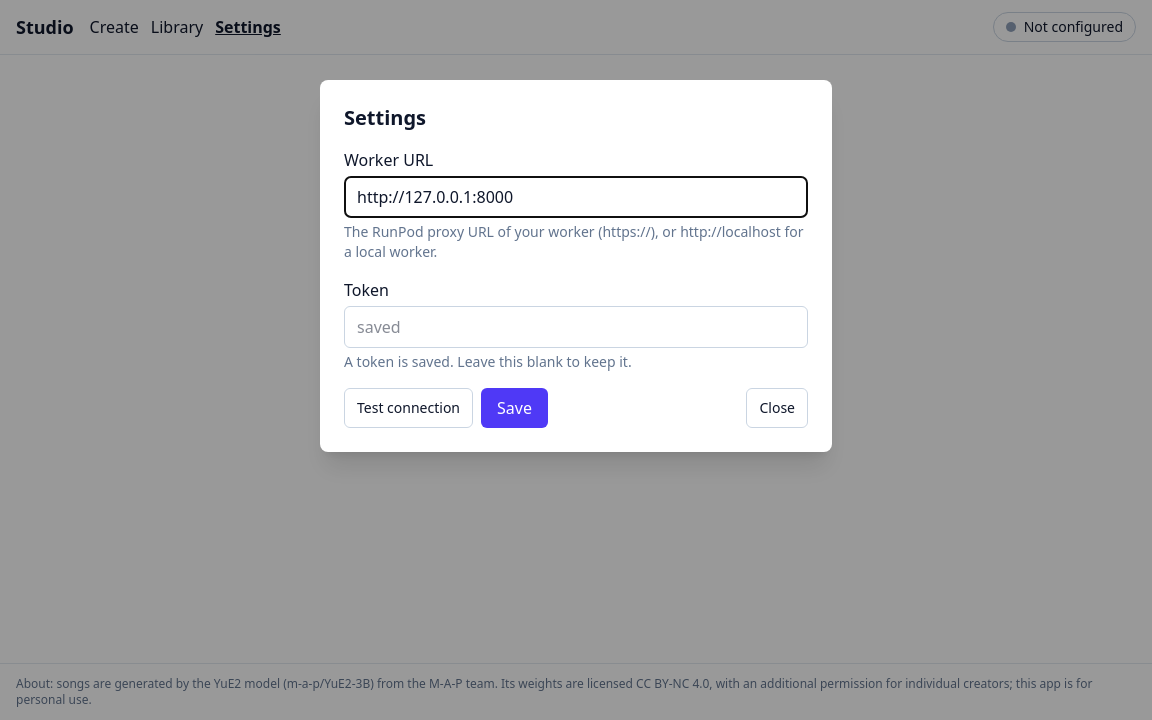
settings dialog (U-5) › Test connection reports ready
expect the field labelled "Worker URL" holds "http://127.0.0.1:8000": met, box [344,176,808,218]
Click the button "Test connection". click: (408, 408)
box: [344,388,473,428]
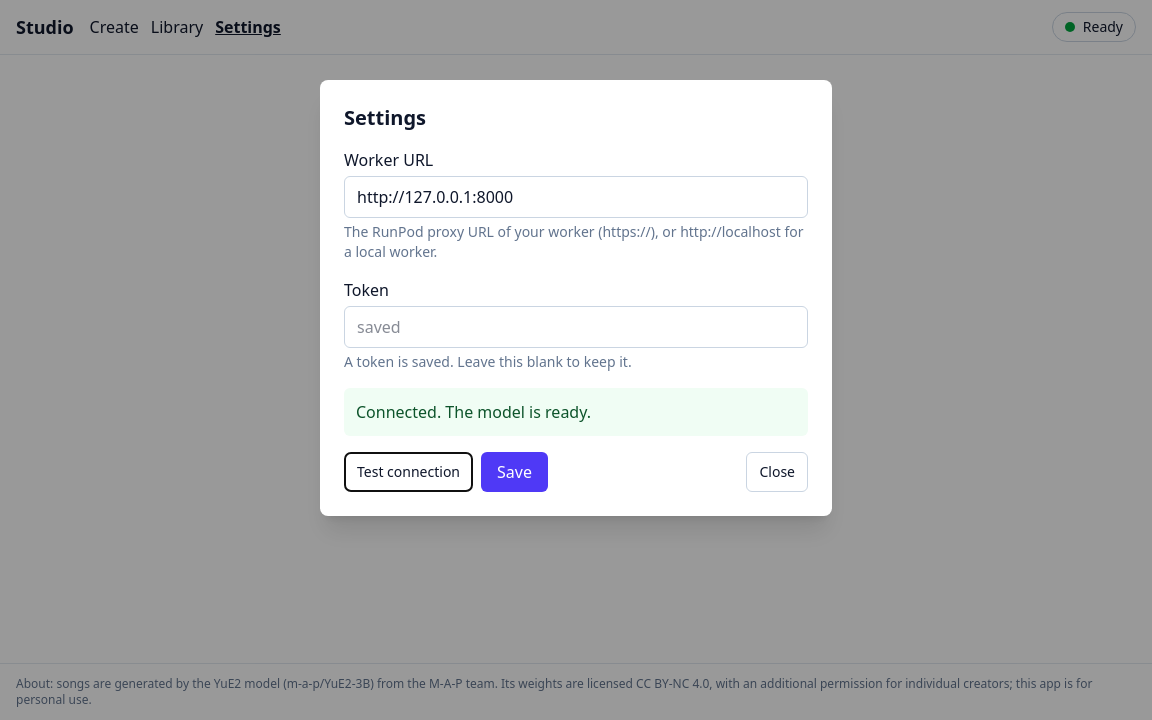
expect the text "Connected. The model is ready." is shown: met, box [344,388,808,436]
